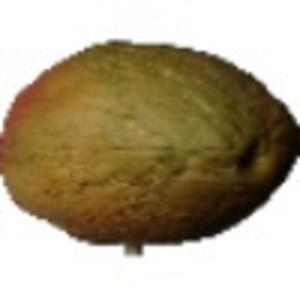mamão: (2, 33, 296, 244)
